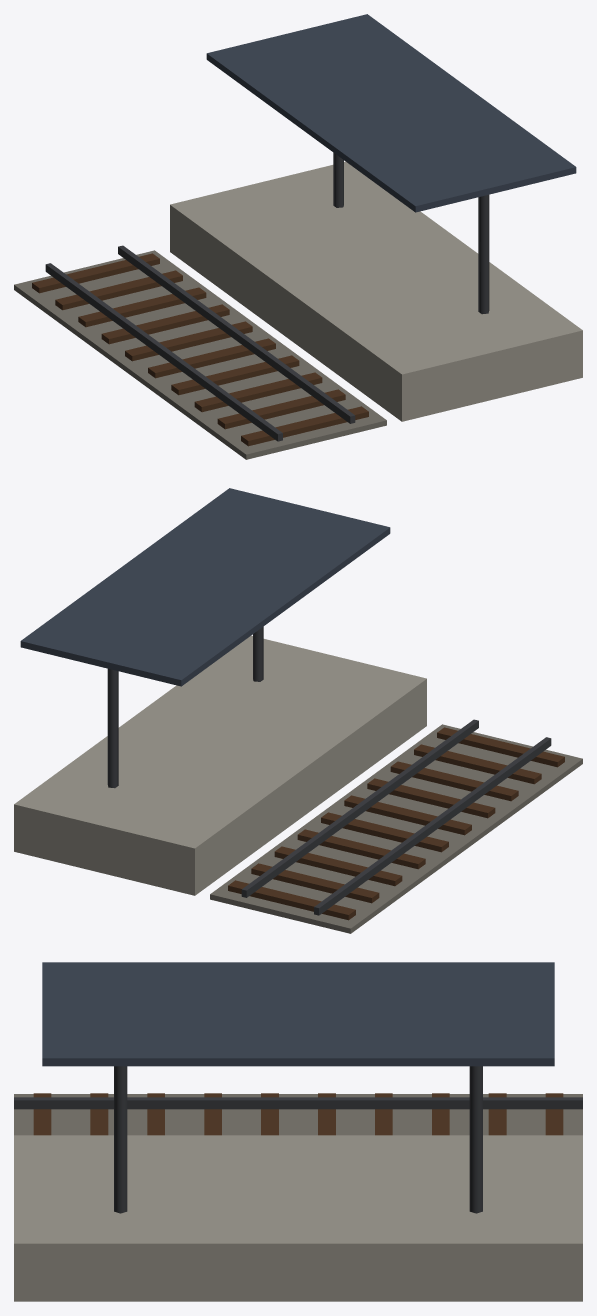
File: road_rail_v_platform_lod1.glb
The picture shows the model from 3 angles, top to bottom: view 1: azimuth 30°, elevation 25°; view 2: azimuth 150°, elevation 25°; view 3: azimuth 270°, elevation 25°; orthographic projection. The views are drawn at different scales.
Visible parts, largest first — view 1: body; view 2: body; view 3: body.
Boxes of the visible parts, x1,y1,x2,y2 form: body: (14,14,582,459); body: (14,488,582,933); body: (14,962,582,1301).
Bounding box in the file's own units: 6.8 × 3.82 × 8.
